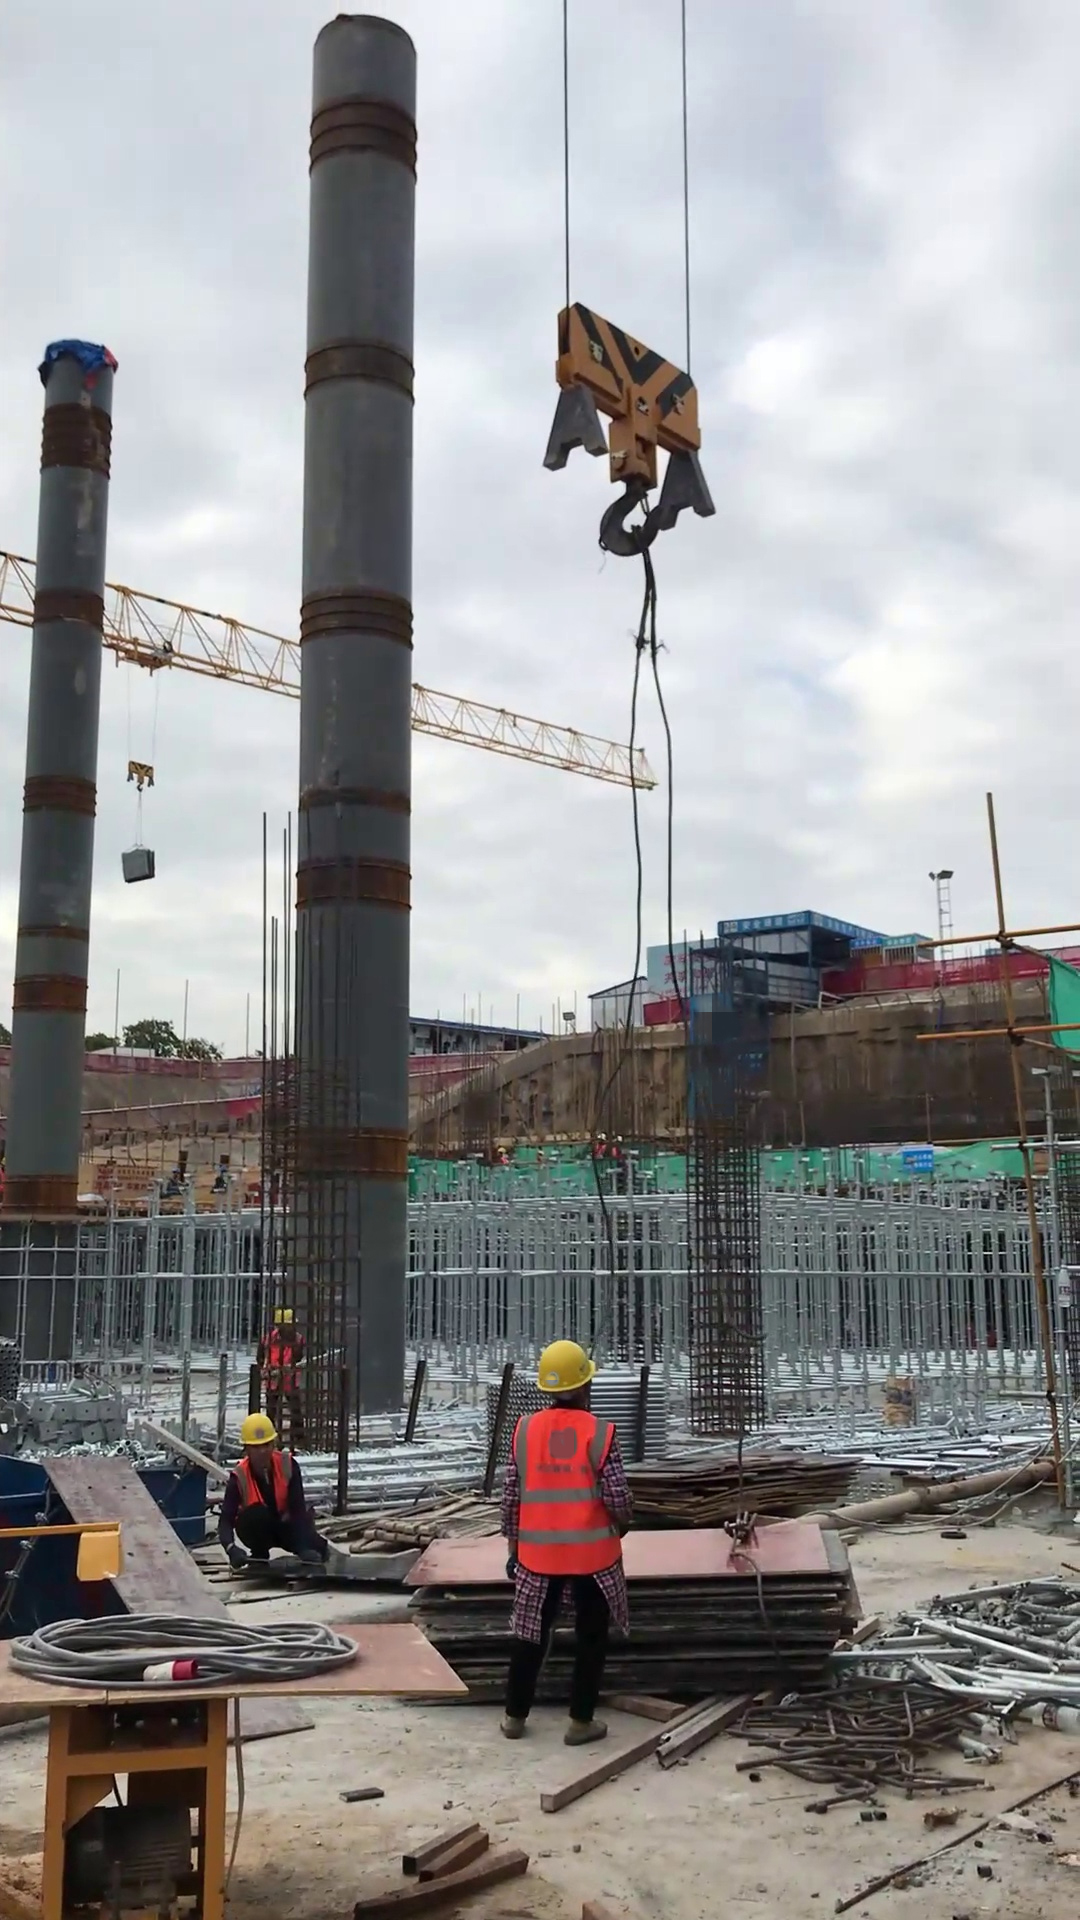board: (390, 1506, 880, 1729), (604, 1434, 880, 1537)
cutter: (2, 1598, 428, 1920)
fence: (866, 944, 1047, 1001)
helmet: (525, 1331, 603, 1404), (232, 1407, 292, 1456), (264, 1304, 300, 1332)
hook: (528, 294, 730, 565), (128, 753, 159, 796)
person: (494, 1326, 636, 1756), (214, 1407, 336, 1586), (253, 1304, 317, 1447)
vest: (501, 1404, 625, 1579), (226, 1458, 301, 1519), (255, 1339, 311, 1403)
